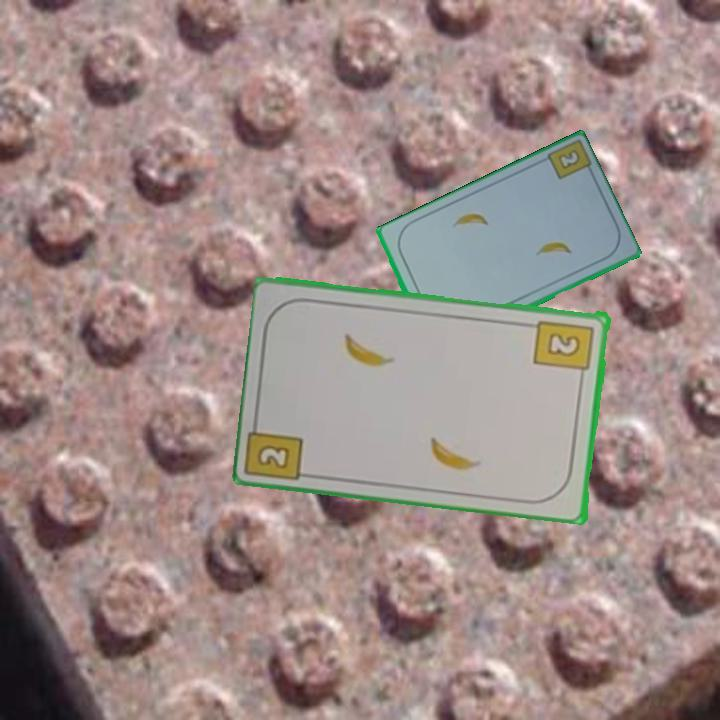2b: (532, 316, 597, 382), (542, 138, 596, 183), (254, 440, 294, 472)
